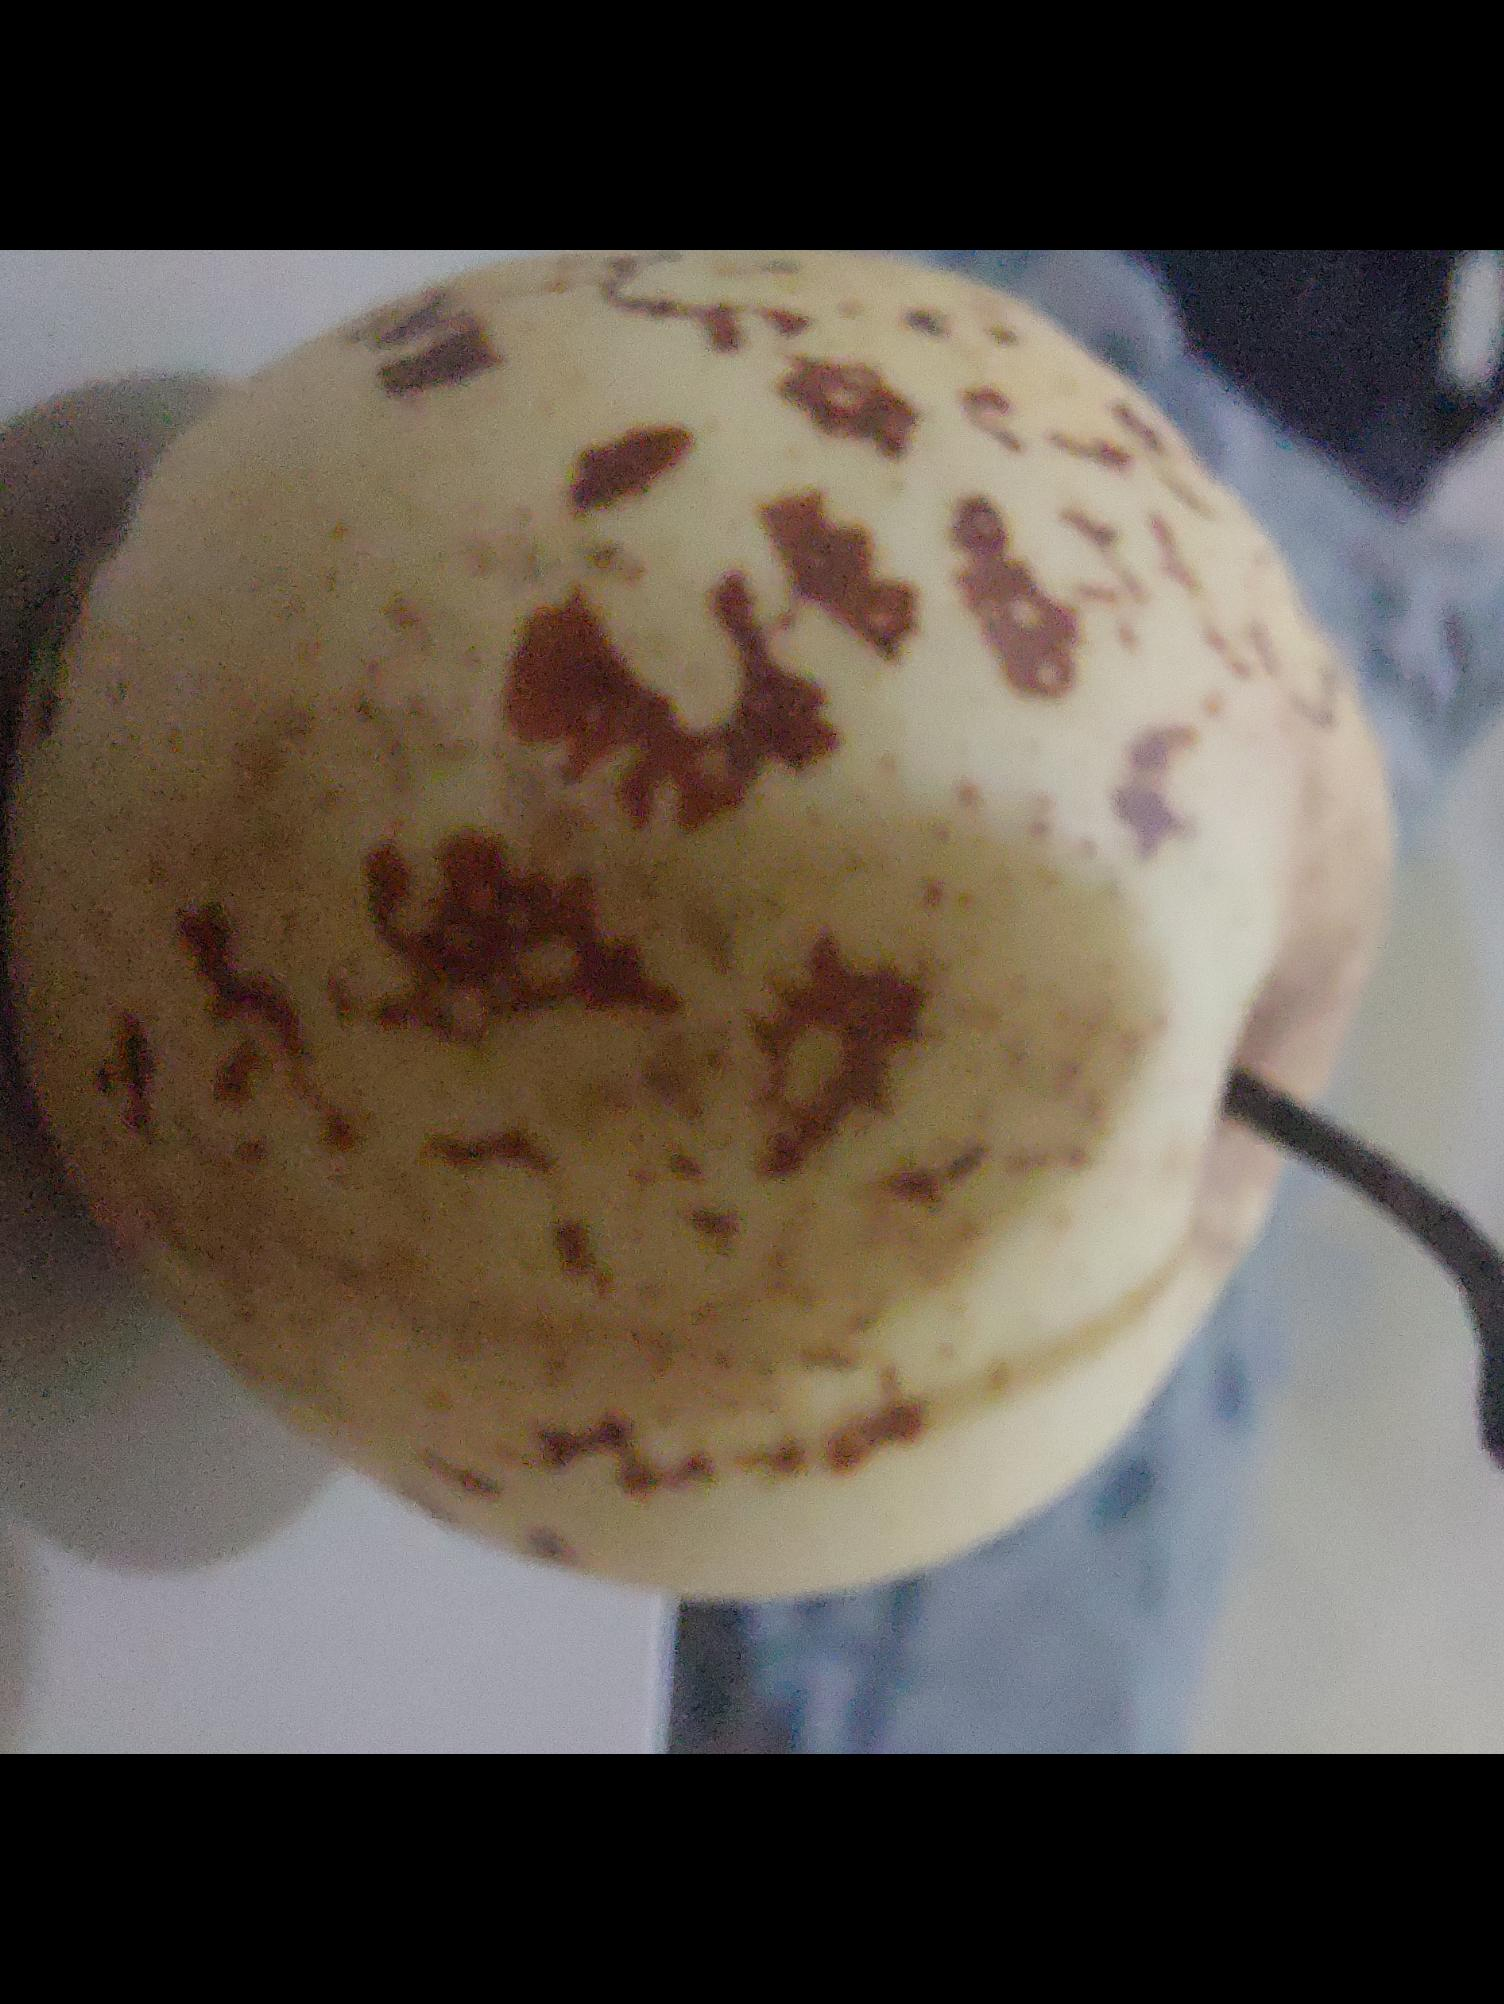Bad Pear: (0, 254, 1383, 1611)
